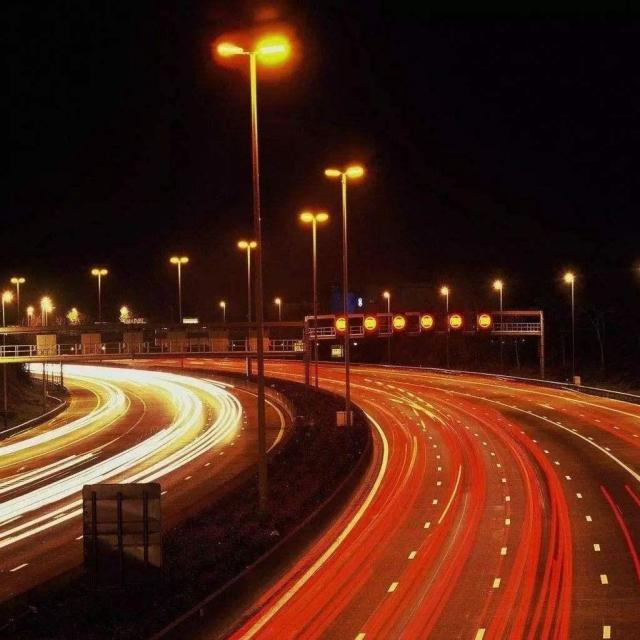other: (396, 420, 554, 617), (67, 369, 242, 473), (294, 153, 382, 233), (35, 282, 150, 336), (378, 271, 582, 301), (352, 307, 498, 338), (250, 28, 306, 86)
